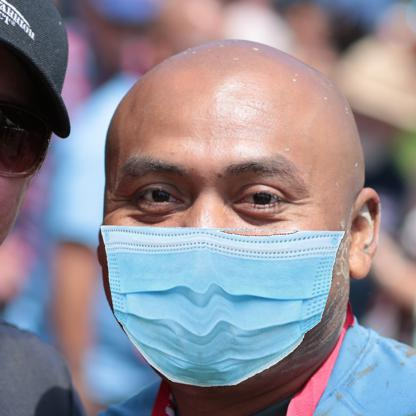mask: (96, 221, 349, 387)
